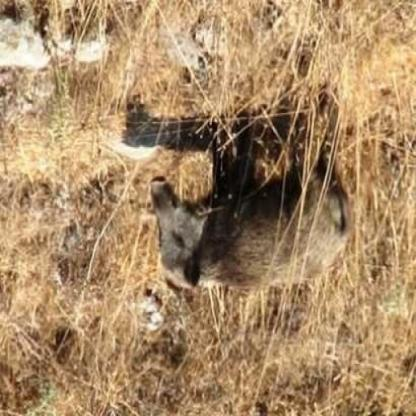boar: (126, 122, 374, 314)
